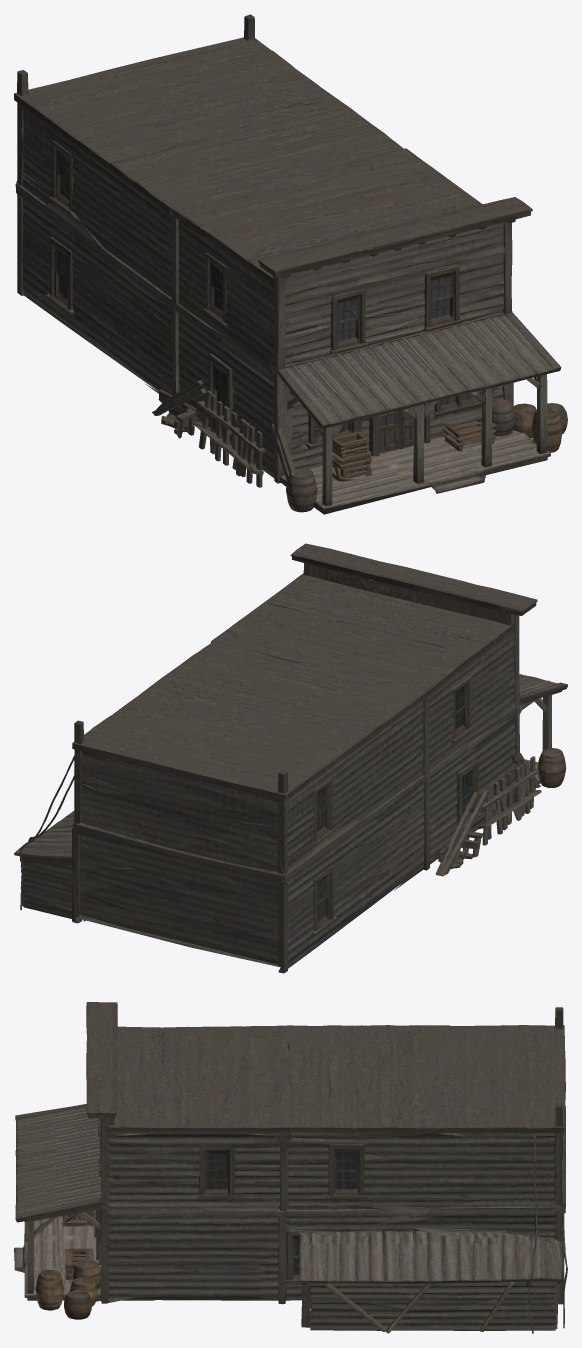
Rendered from store.glb.
3 renders of one model, top to bottom at view 1: azimuth 30°, elevation 25°; view 2: azimuth 150°, elevation 25°; view 3: azimuth 270°, elevation 25°, orthographic. The views are drawn at different scales.
Size of the model in its own units: 1.18 by 0.7482 by 1.91.
1 material, 1 textured.
